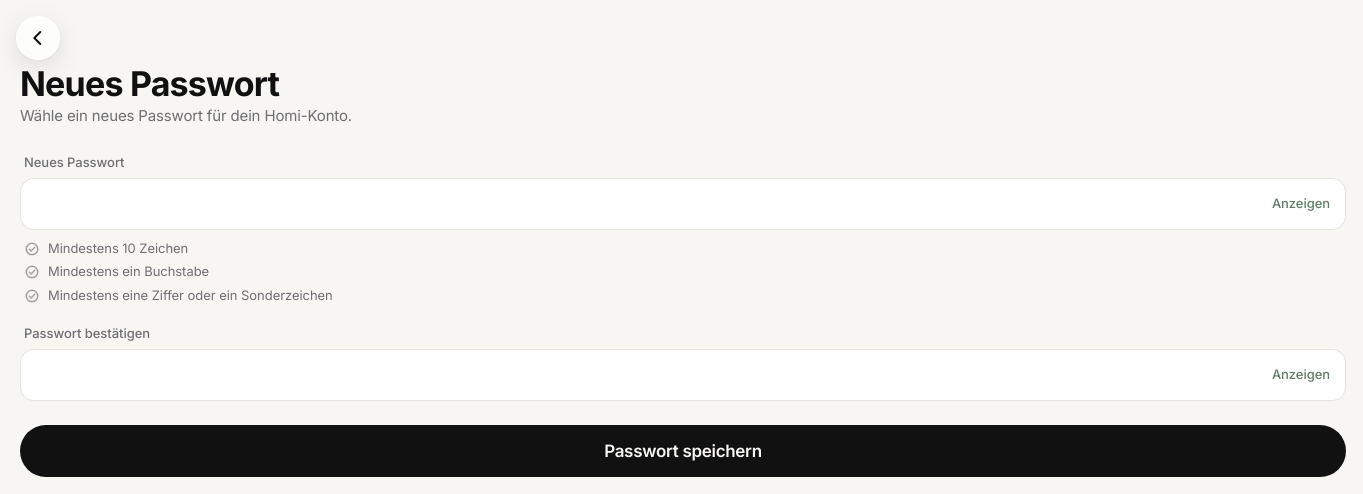
it: ResetPasswordForm › turns an expired or used link into a "request a new link" state
Type "Herbst-Laub-2027" into the password field labelled "Neues Passwort" at [648, 204], box [36,178,1260,230]
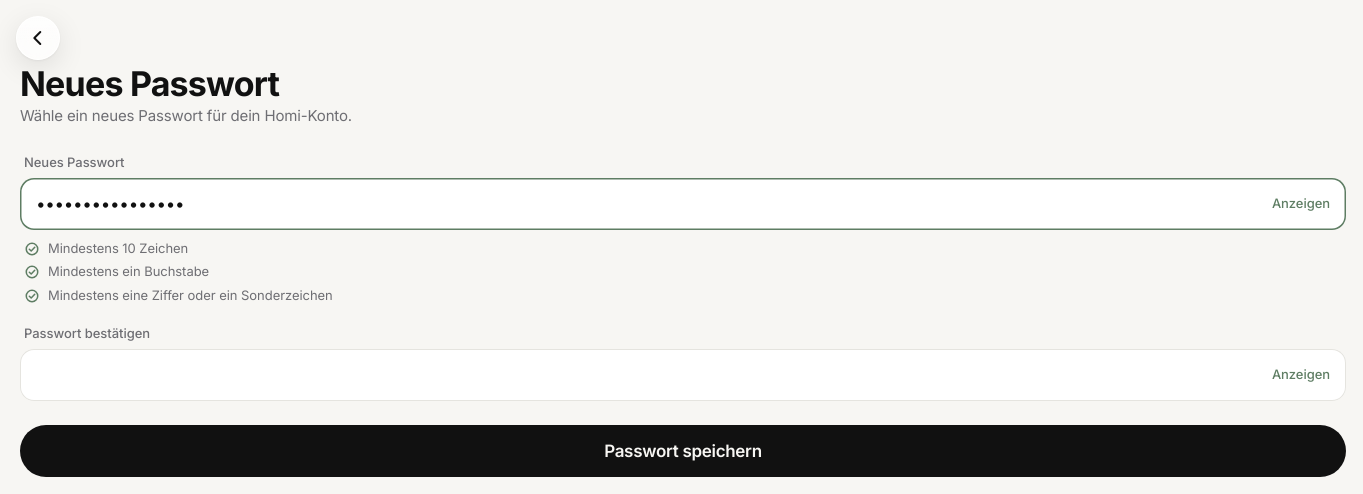
Type "Herbst-Laub-2027" into the password field labelled "Passwort bestätigen" at [648, 375], box [36,349,1260,401]
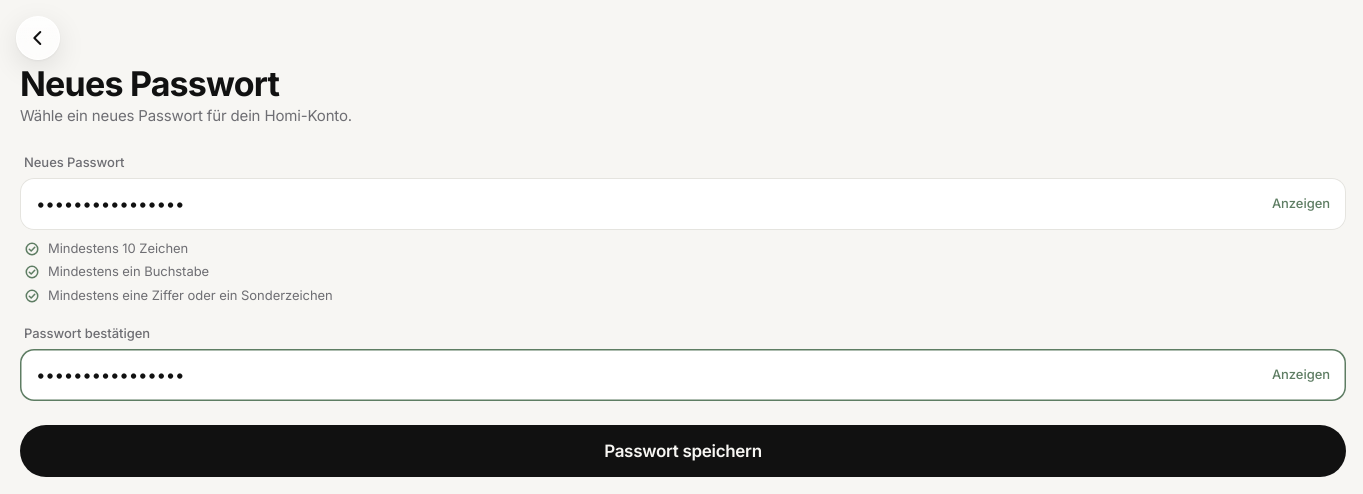
Click the button "Passwort speichern" at [683, 451], box [20,425,1346,477]
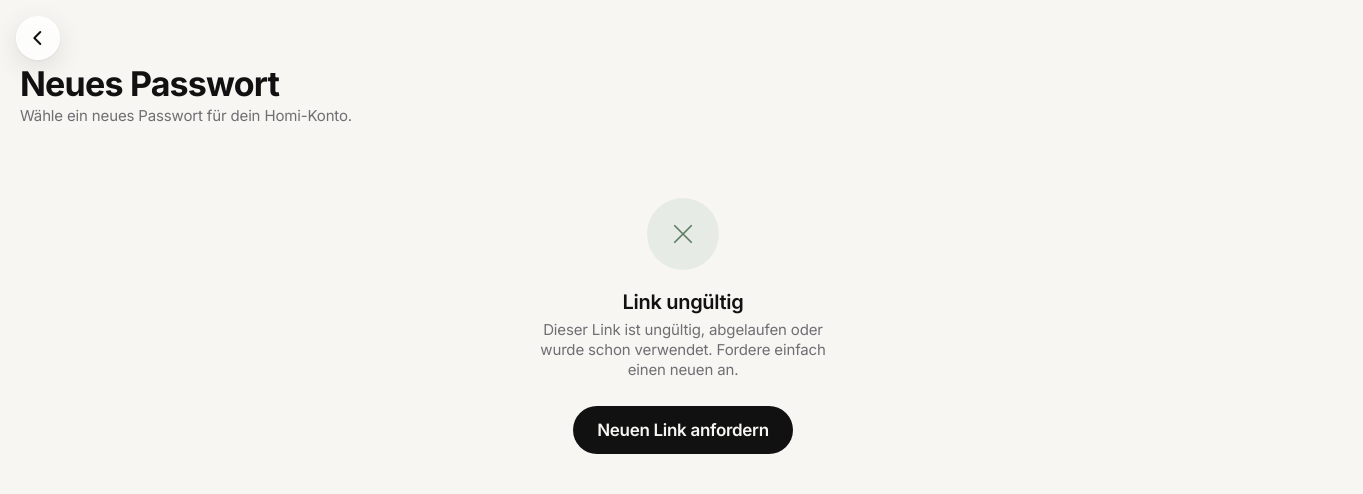
Expected: the heading "Link ungültig" is shown, [622,290,743,315]
